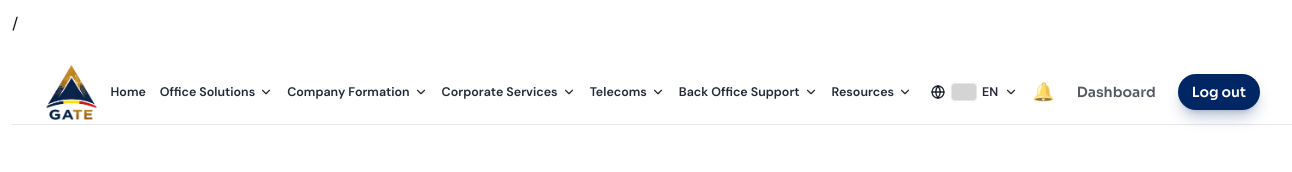
Navbar auth links › sends a customer to their dashboard
What coordinates should you click on to do the following:
click the button "Dashboard"
I would click on:
 (1116, 92)
Its box is x1=1063 y1=74 x2=1170 y2=110.
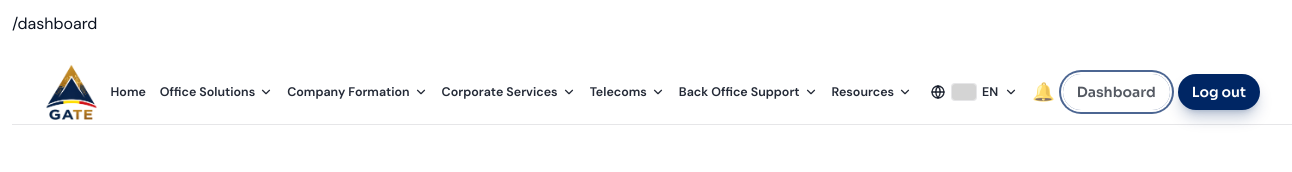
Result: the text with test id "path" reads "/dashboard" at x1=12 y1=13 x2=97 y2=34
